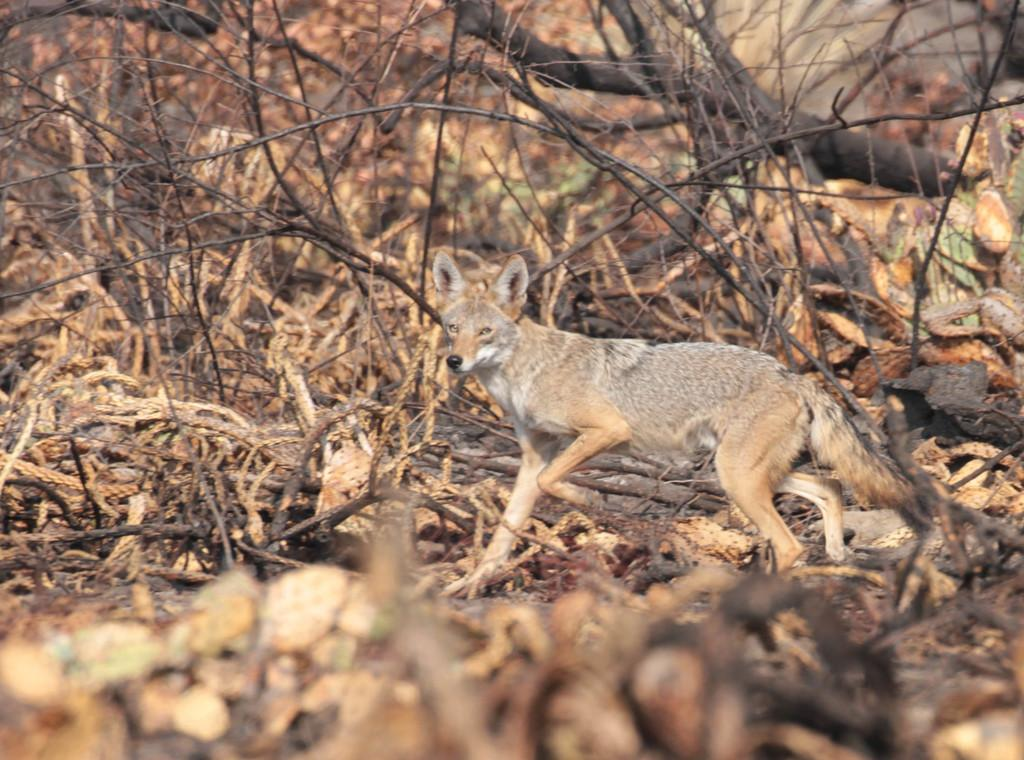Coyote: (427, 242, 930, 600)
